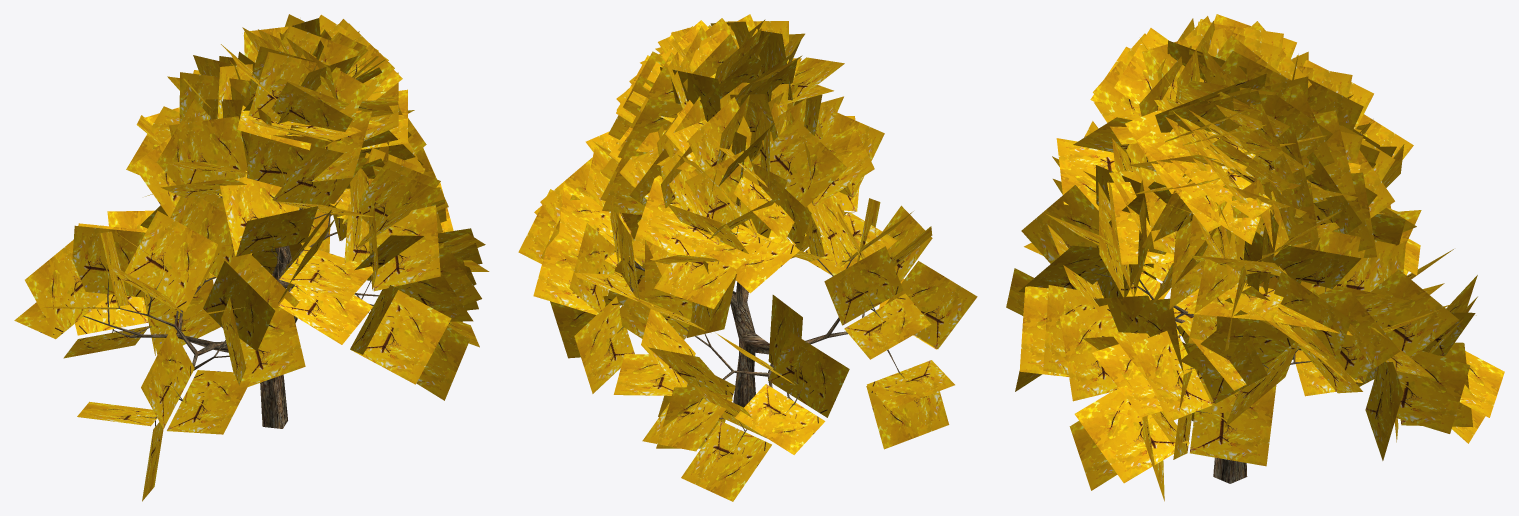
The picture shows the model from 3 angles, left to right: view 1: azimuth 30°, elevation 25°; view 2: azimuth 150°, elevation 25°; view 3: azimuth 270°, elevation 25°; orthographic projection. The views are drawn at different scales.
Visible parts, largest first — view 1: twig_011, tree_011; view 2: twig_011, tree_011; view 3: twig_011, tree_011.
Part boxes in pixels (x1,y1,x2,y2): twig_011: [14, 14, 489, 501]; tree_011: [83, 179, 381, 428]; twig_011: [518, 14, 977, 501]; tree_011: [607, 217, 904, 445]; twig_011: [1006, 14, 1504, 501]; tree_011: [1093, 128, 1376, 483].
Size of the model in its own units: 12.76 by 11.89 by 12.74.
Materials: 2 (2 with a texture image).
